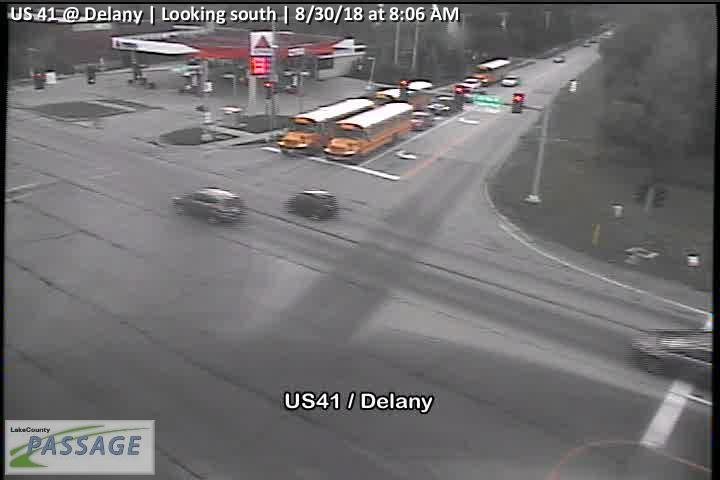Bus: (277, 97, 374, 160), (318, 102, 412, 165), (476, 60, 512, 85)
SUV: (632, 326, 713, 380), (171, 187, 244, 226), (284, 187, 338, 221)
Sedan: (433, 95, 456, 116), (411, 112, 433, 132), (500, 74, 519, 88), (463, 78, 480, 89), (554, 55, 564, 64)
